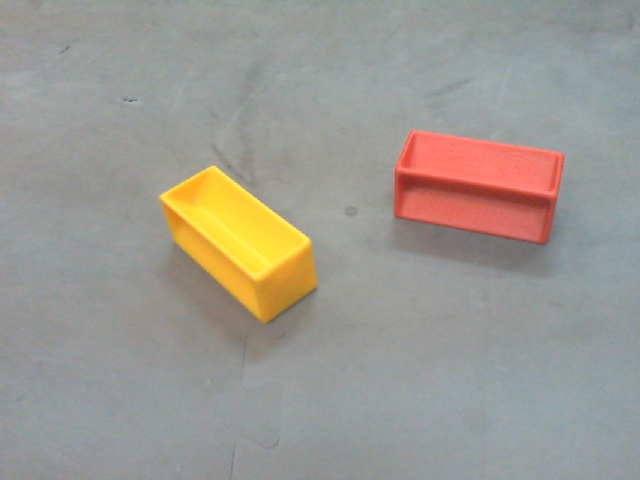RedSample: (392, 129, 570, 247)
YellowSample: (157, 162, 318, 325)
